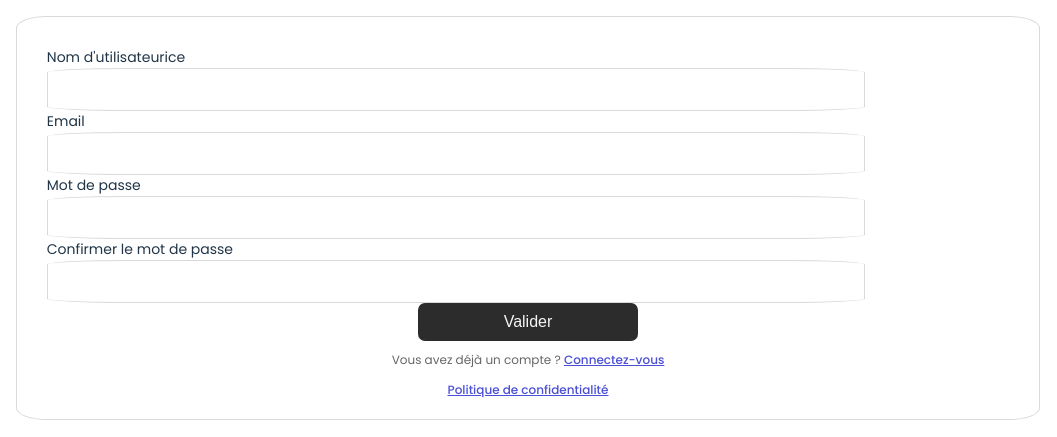
SignUpForm Validation › should display error message when email is invalid
Type "testuser" into the field labelled "Nom d'utilisateurice" at (456, 90), box [47,68,865,111]
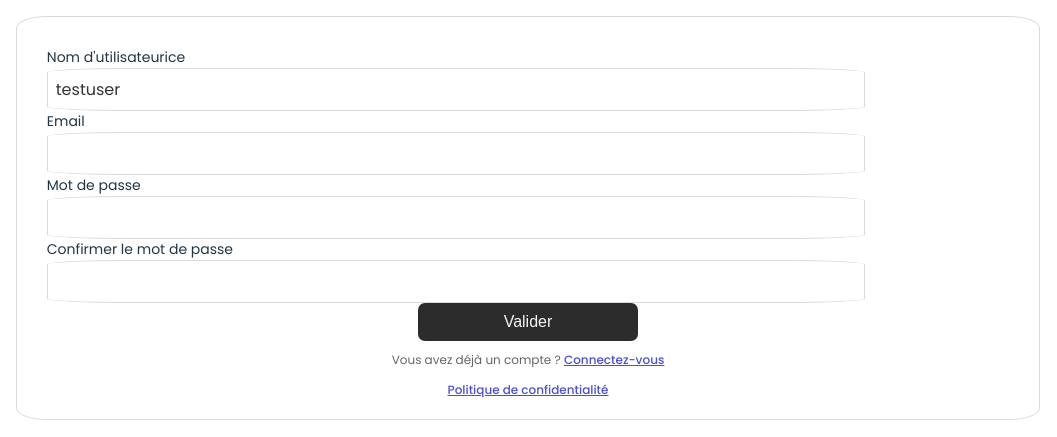
Type "invalidemail" into the field labelled "Email" at (456, 154), box [47,132,865,175]
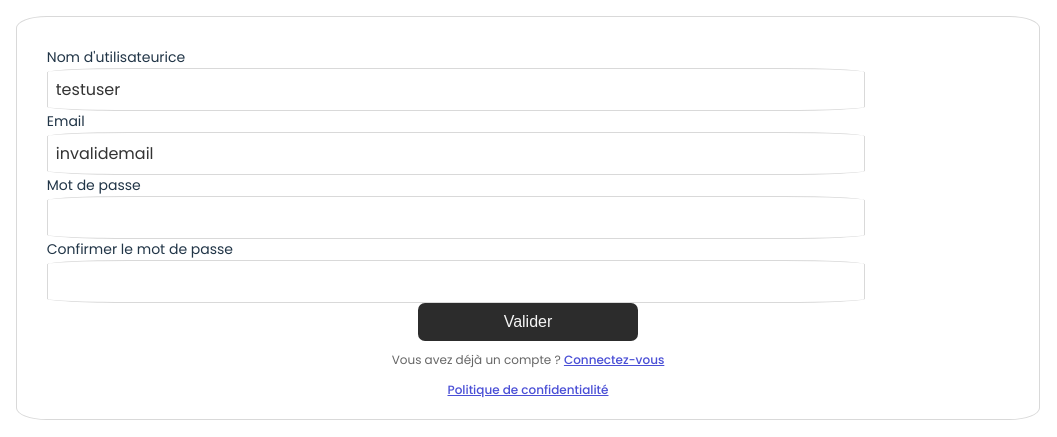
Type "password123" into the password field labelled "Mot de passe" at (456, 218), box [47,196,865,239]
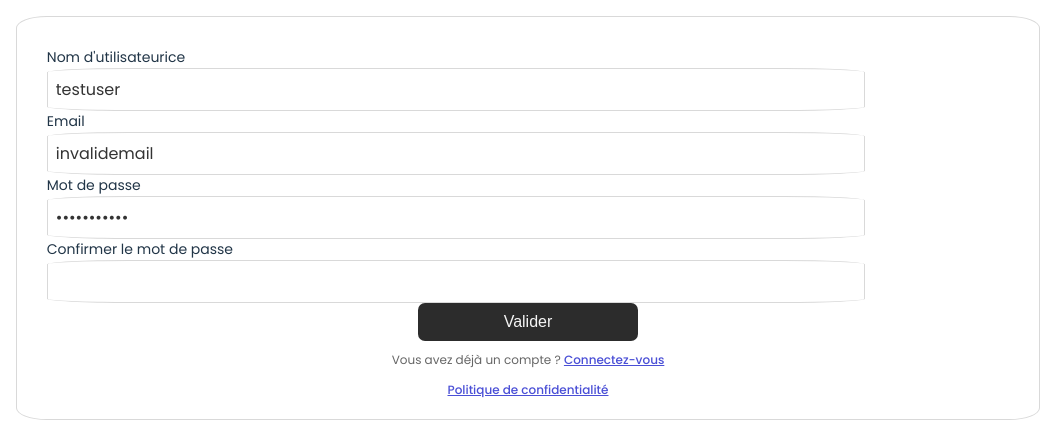
Type "password123" into the password field labelled "Confirmer le mot de passe" at (456, 282), box [47,260,865,303]
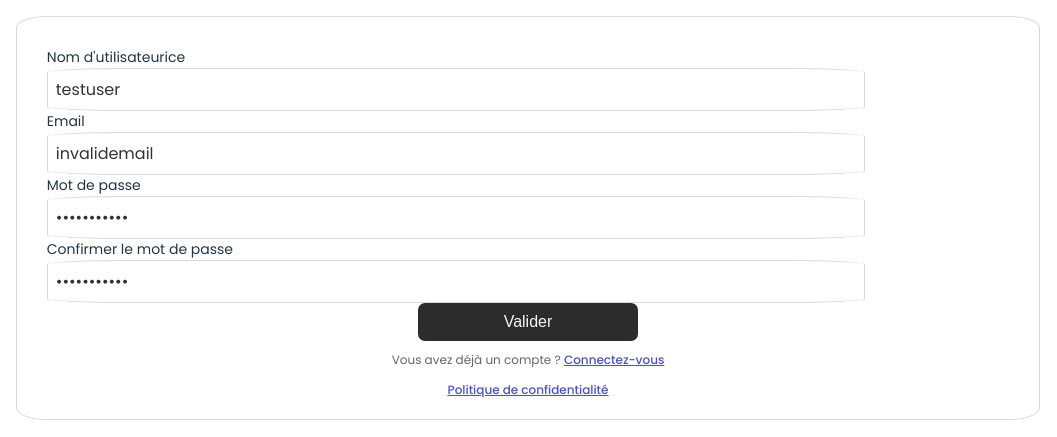
Click the button "Valider" at (528, 322), box [418,303,638,341]
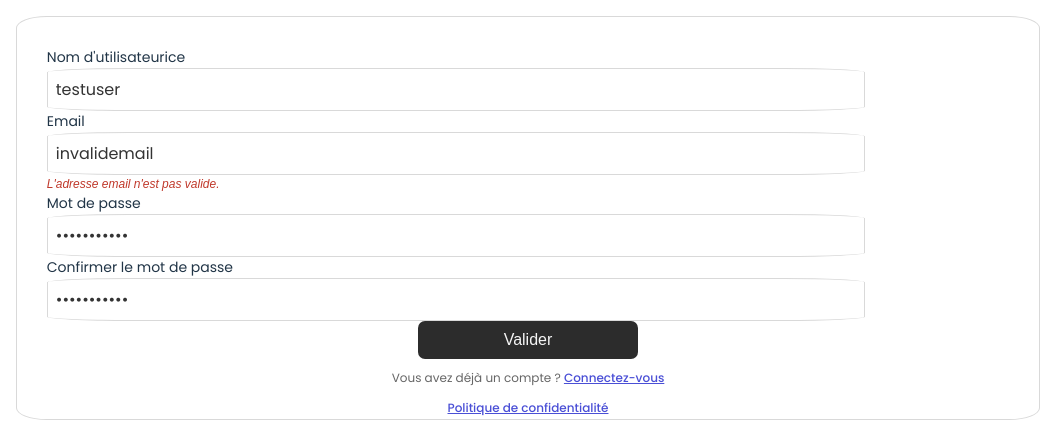
Expected: the text "L'adresse email n'est pas valide." is shown, [47,177,220,191]
